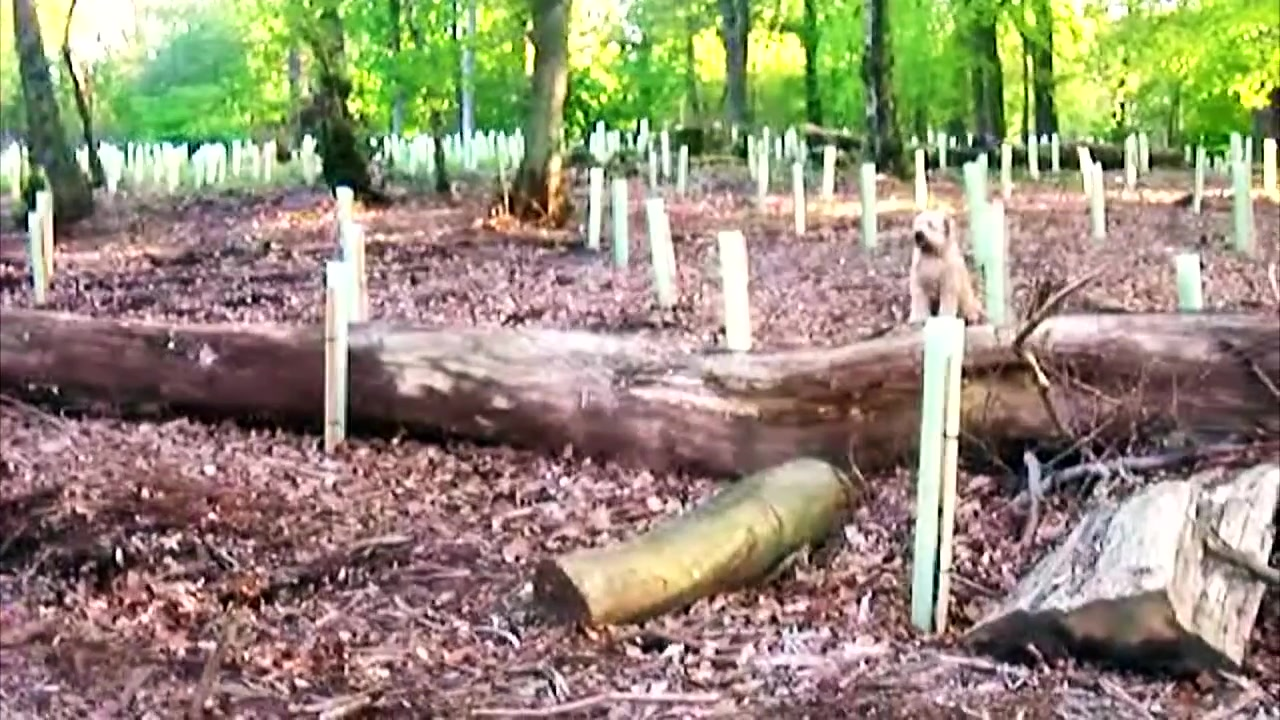dog: (903, 213, 988, 326)
